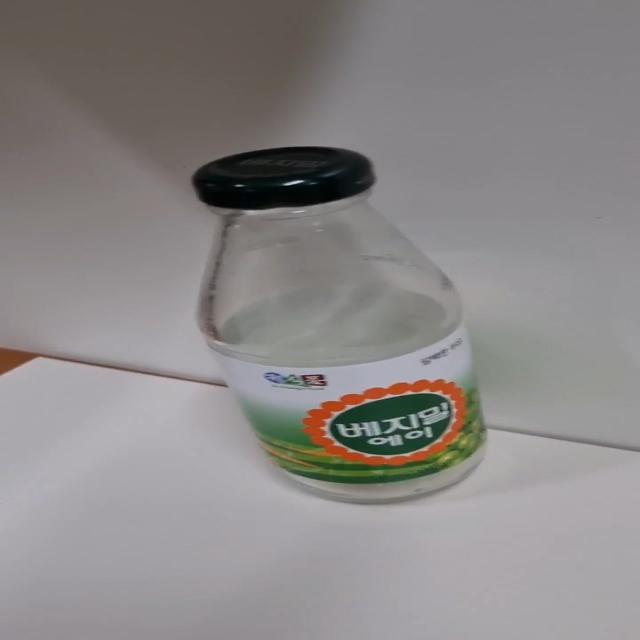Glass: (191, 133, 491, 504)
